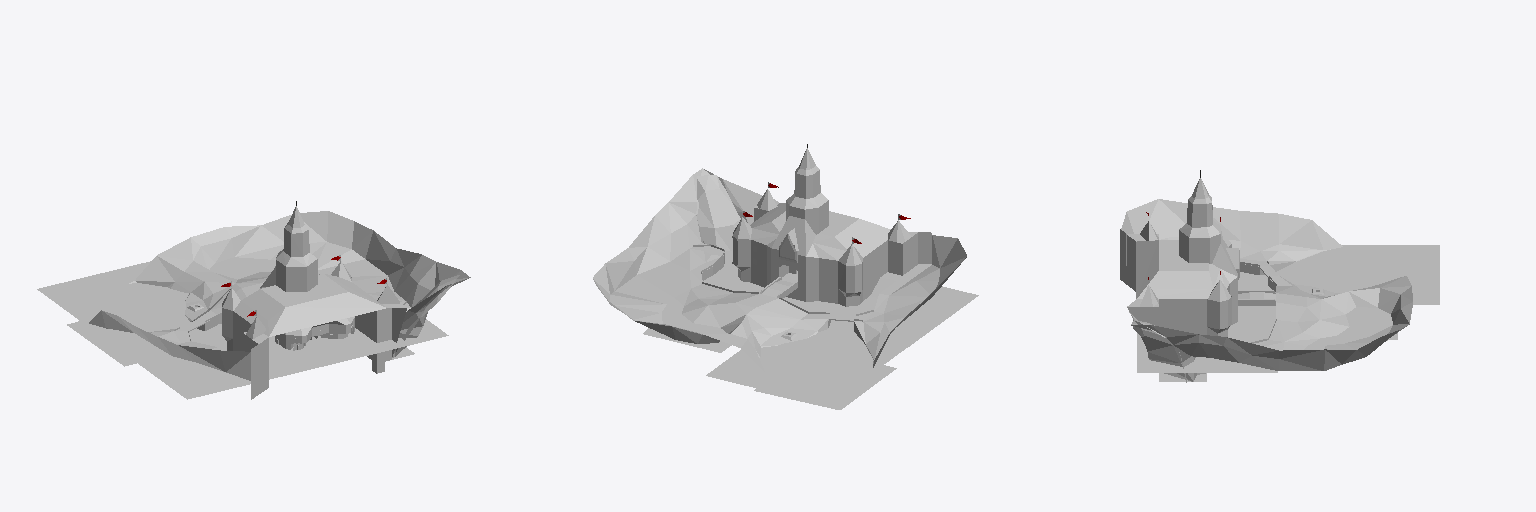
Rendered from world.obj.
3 views of the same model, side by side, from view 1: azimuth 30°, elevation 25°; view 2: azimuth 150°, elevation 25°; view 3: azimuth 270°, elevation 25° (orthographic).
Visible parts, largest first — view 1: Shape_IndexedFaceSet_137_Shape_IndexedFaceSet.259, Shape_IndexedFaceSet_038_Shape_IndexedFaceSet.160, Shape_IndexedFaceSet_012_Shape_IndexedFaceSet.134, Shape_IndexedFaceSet_017_Shape_IndexedFaceSet.139, Shape_IndexedFaceSet_022_Shape_IndexedFaceSet.144, Shape_IndexedFaceSet_023_Shape_IndexedFaceSet.145, Shape_IndexedFaceSet_071_Shape_IndexedFaceSet.193, Shape_IndexedFaceSet_034_Shape_IndexedFaceSet.156, Shape_IndexedFaceSet_030_Shape_IndexedFaceSet.152, Shape_IndexedFaceSet_026_Shape_IndexedFaceSet.148, Shape_IndexedFaceSet_070_Shape_IndexedFaceSet.192, Shape_IndexedFaceSet.016_Shape_IndexedFaceSet.017; view 2: Shape_IndexedFaceSet_137_Shape_IndexedFaceSet.259, Shape_IndexedFaceSet_038_Shape_IndexedFaceSet.160, Shape_IndexedFaceSet_017_Shape_IndexedFaceSet.139, Shape_IndexedFaceSet_022_Shape_IndexedFaceSet.144, Shape_IndexedFaceSet_012_Shape_IndexedFaceSet.134, Shape_IndexedFaceSet_023_Shape_IndexedFaceSet.145, Shape_IndexedFaceSet_136_Shape_IndexedFaceSet.258, Shape_IndexedFaceSet_030_Shape_IndexedFaceSet.152, Shape_IndexedFaceSet_071_Shape_IndexedFaceSet.193, Shape_IndexedFaceSet_026_Shape_IndexedFaceSet.148, Shape_IndexedFaceSet_070_Shape_IndexedFaceSet.192, Shape_IndexedFaceSet_034_Shape_IndexedFaceSet.156 (+1 smaller); view 3: Shape_IndexedFaceSet_038_Shape_IndexedFaceSet.160, Shape_IndexedFaceSet_137_Shape_IndexedFaceSet.259, Shape_IndexedFaceSet_012_Shape_IndexedFaceSet.134, Shape_IndexedFaceSet_017_Shape_IndexedFaceSet.139, Shape_IndexedFaceSet_023_Shape_IndexedFaceSet.145, Shape_IndexedFaceSet_022_Shape_IndexedFaceSet.144, Shape_IndexedFaceSet_071_Shape_IndexedFaceSet.193, Shape_IndexedFaceSet_034_Shape_IndexedFaceSet.156, Shape_IndexedFaceSet_030_Shape_IndexedFaceSet.152, Shape_IndexedFaceSet_070_Shape_IndexedFaceSet.192.
Boxes of the visible parts, <box> form: Shape_IndexedFaceSet_137_Shape_IndexedFaceSet.259: <box>37,261,448,399</box>; Shape_IndexedFaceSet_038_Shape_IndexedFaceSet.160: <box>101,211,459,380</box>; Shape_IndexedFaceSet_012_Shape_IndexedFaceSet.134: <box>222,261,399,339</box>; Shape_IndexedFaceSet_017_Shape_IndexedFaceSet.139: <box>222,303,406,399</box>; Shape_IndexedFaceSet_022_Shape_IndexedFaceSet.144: <box>151,242,410,347</box>; Shape_IndexedFaceSet_023_Shape_IndexedFaceSet.145: <box>174,257,275,350</box>; Shape_IndexedFaceSet_071_Shape_IndexedFaceSet.193: <box>276,228,317,291</box>; Shape_IndexedFaceSet_034_Shape_IndexedFaceSet.156: <box>89,270,470,357</box>; Shape_IndexedFaceSet_030_Shape_IndexedFaceSet.152: <box>149,272,259,332</box>; Shape_IndexedFaceSet_026_Shape_IndexedFaceSet.148: <box>67,321,136,366</box>; Shape_IndexedFaceSet_070_Shape_IndexedFaceSet.192: <box>276,206,316,266</box>; Shape_IndexedFaceSet.016_Shape_IndexedFaceSet.017: <box>276,318,354,343</box>; Shape_IndexedFaceSet_137_Shape_IndexedFaceSet.259: <box>703,250,978,405</box>; Shape_IndexedFaceSet_038_Shape_IndexedFaceSet.160: <box>593,175,966,371</box>; Shape_IndexedFaceSet_017_Shape_IndexedFaceSet.139: <box>733,199,931,306</box>; Shape_IndexedFaceSet_022_Shape_IndexedFaceSet.144: <box>610,243,939,332</box>; Shape_IndexedFaceSet_012_Shape_IndexedFaceSet.134: <box>733,189,911,265</box>; Shape_IndexedFaceSet_023_Shape_IndexedFaceSet.145: <box>643,247,921,352</box>; Shape_IndexedFaceSet_136_Shape_IndexedFaceSet.258: <box>697,175,740,251</box>; Shape_IndexedFaceSet_030_Shape_IndexedFaceSet.152: <box>721,303,889,359</box>; Shape_IndexedFaceSet_071_Shape_IndexedFaceSet.193: <box>786,170,828,234</box>; Shape_IndexedFaceSet_026_Shape_IndexedFaceSet.148: <box>754,365,896,409</box>; Shape_IndexedFaceSet_070_Shape_IndexedFaceSet.192: <box>787,148,827,209</box>; Shape_IndexedFaceSet_034_Shape_IndexedFaceSet.156: <box>693,168,888,367</box>; Shape_IndexedFaceSet_038_Shape_IndexedFaceSet.160: <box>1121,199,1412,370</box>; Shape_IndexedFaceSet_137_Shape_IndexedFaceSet.259: <box>1137,245,1439,372</box>; Shape_IndexedFaceSet_012_Shape_IndexedFaceSet.134: <box>1136,221,1238,306</box>; Shape_IndexedFaceSet_017_Shape_IndexedFaceSet.139: <box>1120,229,1238,336</box>; Shape_IndexedFaceSet_023_Shape_IndexedFaceSet.145: <box>1240,259,1397,346</box>; Shape_IndexedFaceSet_022_Shape_IndexedFaceSet.144: <box>1161,237,1392,350</box>; Shape_IndexedFaceSet_071_Shape_IndexedFaceSet.193: <box>1179,200,1220,263</box>; Shape_IndexedFaceSet_034_Shape_IndexedFaceSet.156: <box>1131,220,1342,381</box>; Shape_IndexedFaceSet_030_Shape_IndexedFaceSet.152: <box>1268,244,1355,313</box>; Shape_IndexedFaceSet_070_Shape_IndexedFaceSet.192: <box>1179,178,1220,237</box>.
Size of the model in its own units: 16.44 by 9.96 by 16.22.